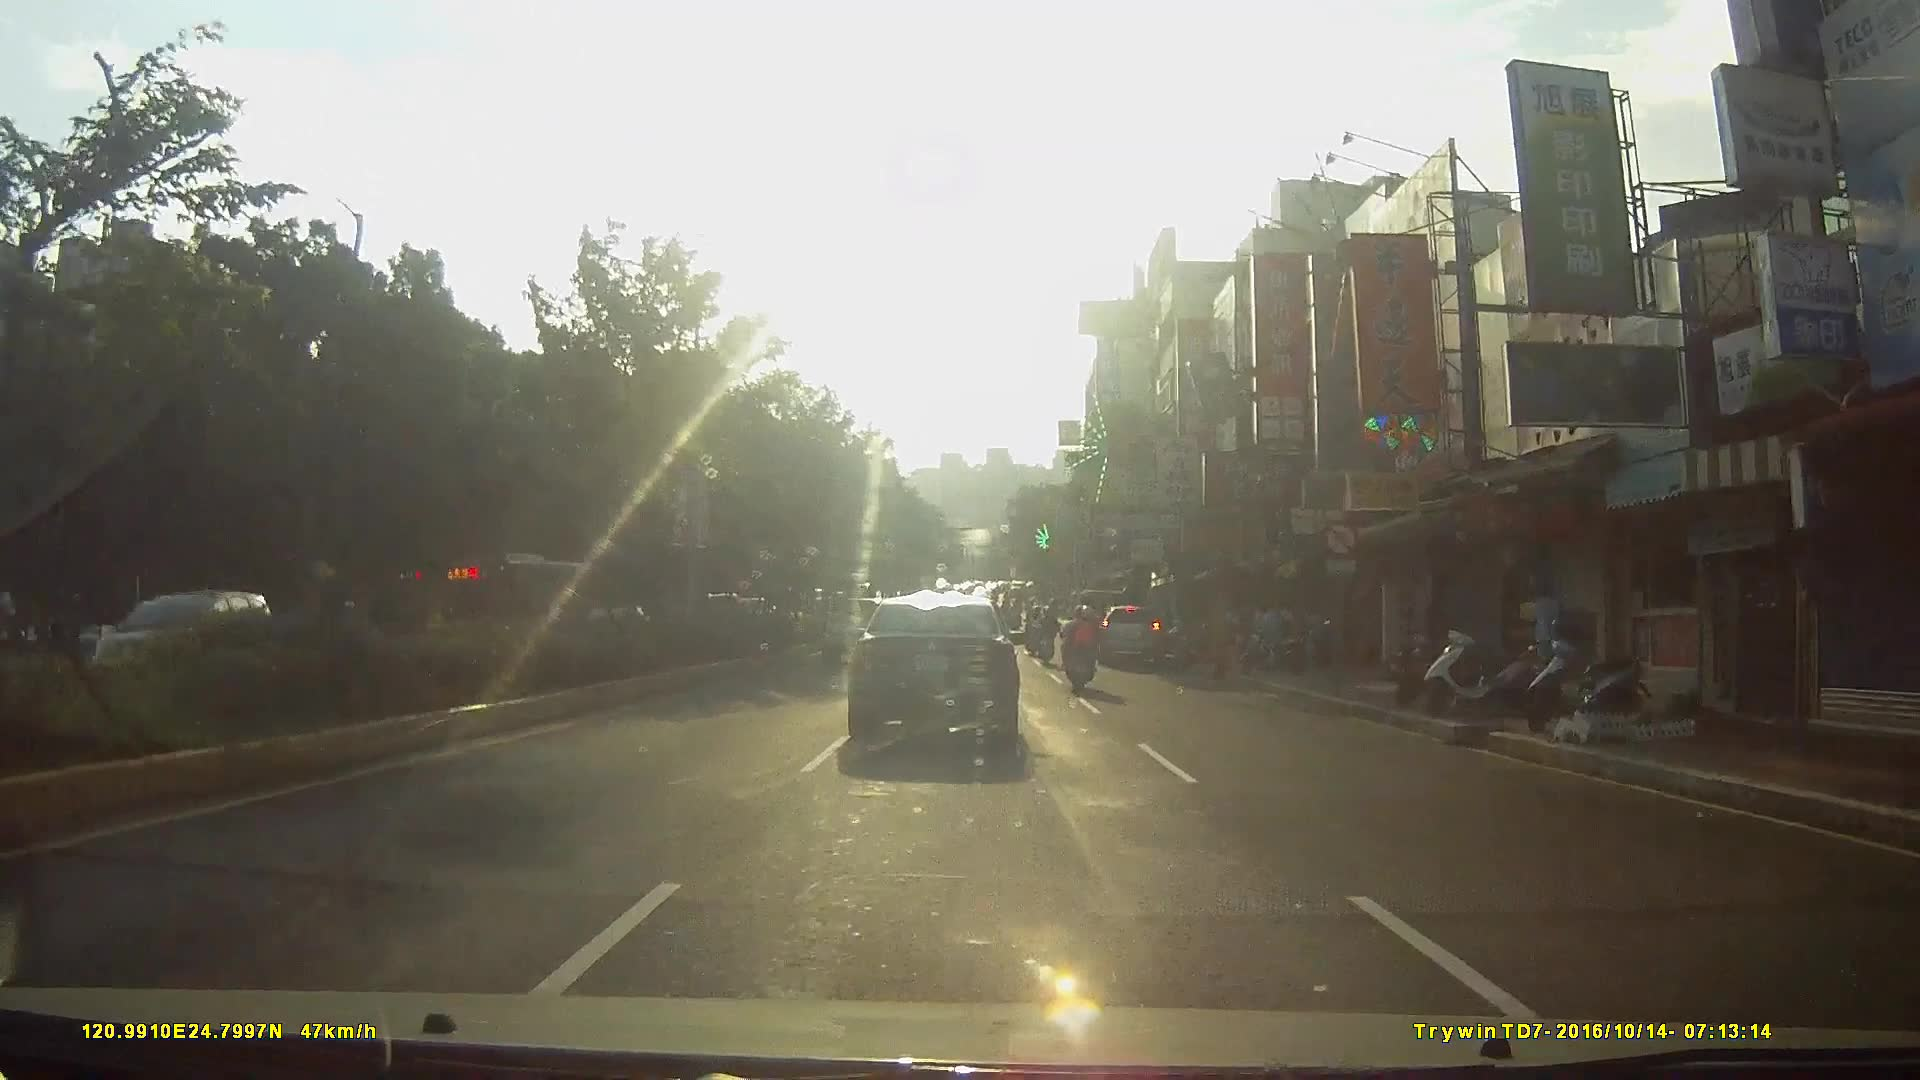pedestrian: (1521, 582, 1562, 690)
rider: (1059, 611, 1104, 708), (1030, 601, 1060, 667)
vehicle: (842, 590, 1034, 757), (1093, 600, 1171, 673)
